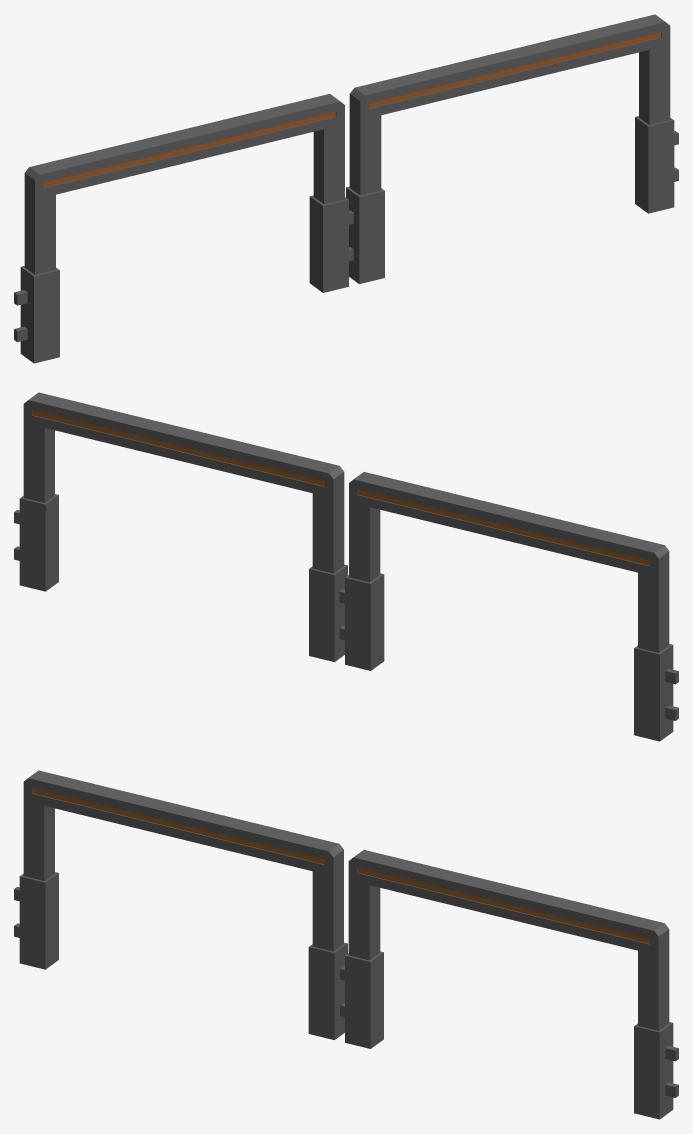
File: railing_straight (1).fbx
3 renders of one model, top to bottom at view 1: azimuth 30°, elevation 25°; view 2: azimuth 150°, elevation 25°; view 3: azimuth 330°, elevation 25°, orthographic.
Visible parts, largest first — view 1: polySurface235; view 2: polySurface235; view 3: polySurface235.
Boxes of the visible parts, bbox=[...] form: polySurface235: bbox=[14, 14, 678, 363]; polySurface235: bbox=[14, 392, 678, 741]; polySurface235: bbox=[14, 770, 678, 1119].
Size of the model in its own units: 989 by 266 by 34.56.
